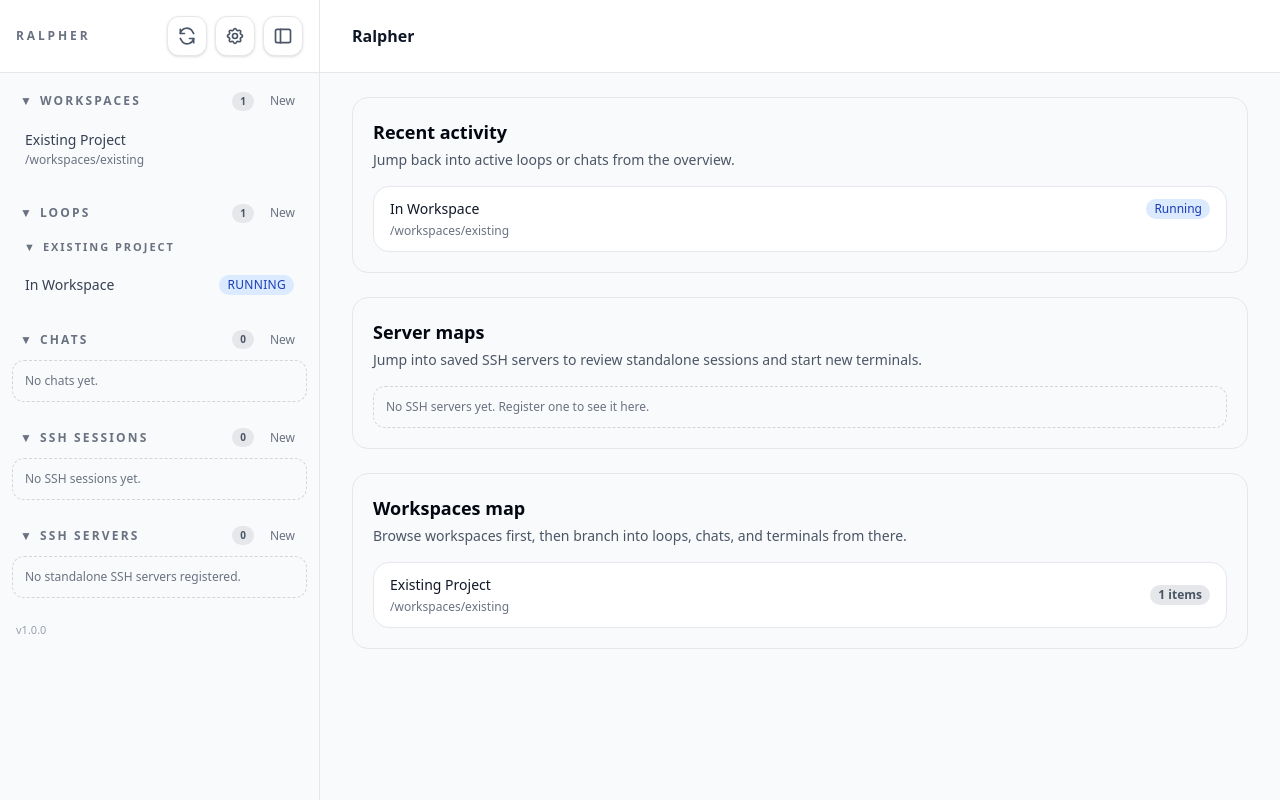
Test: workspace management scenario › workspace route shows summary cards and related loop content
The image size is (1280, 800).
Click the 1st text "Existing Project" at [75, 140], box left=25, top=130, right=126, bottom=149
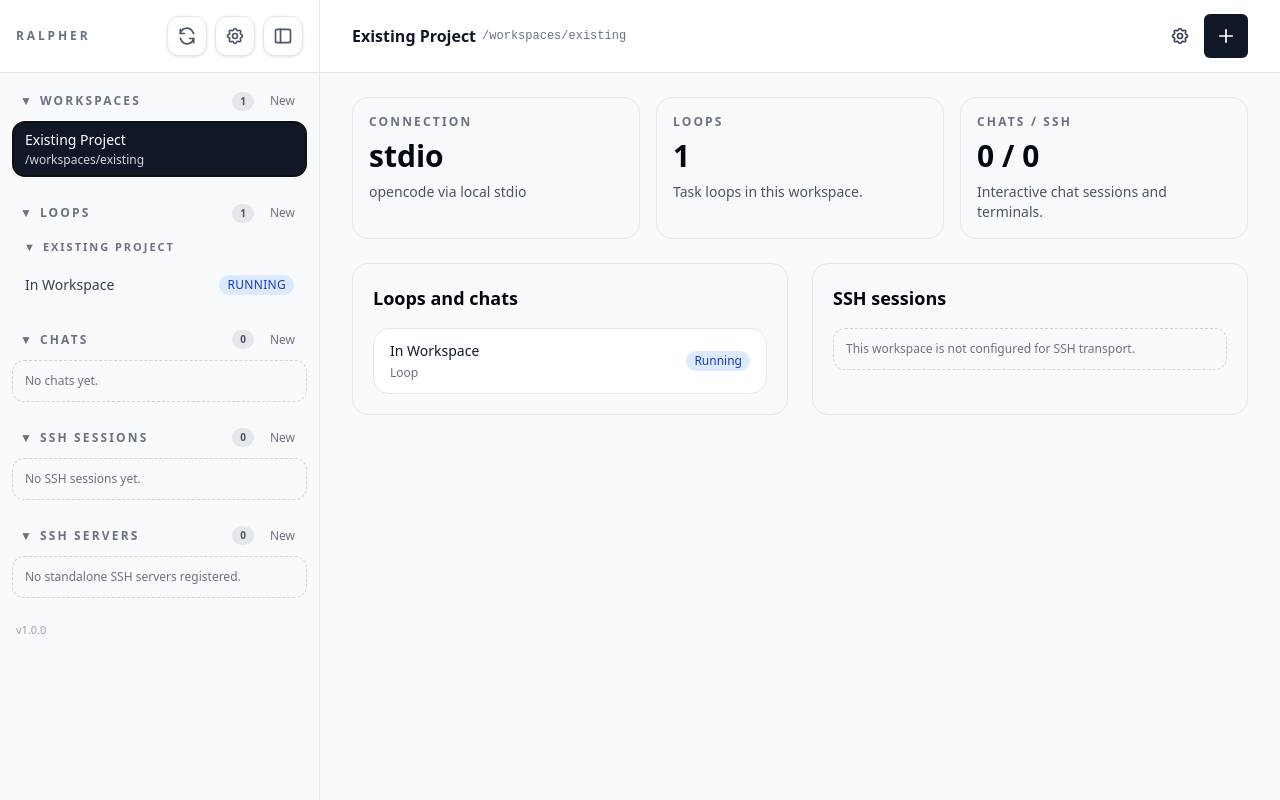
Check: the heading "Existing Project" is shown, box left=352, top=24, right=476, bottom=48
Check: the heading "Loops and chats" is shown, box left=373, top=286, right=518, bottom=310
Check: the heading "SSH sessions" is shown, box left=833, top=286, right=946, bottom=310
